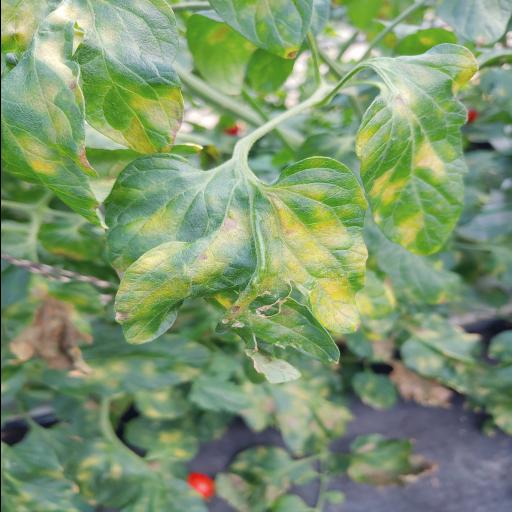disease_tomato: (102, 154, 369, 384), (354, 43, 476, 257), (73, 0, 184, 155)
